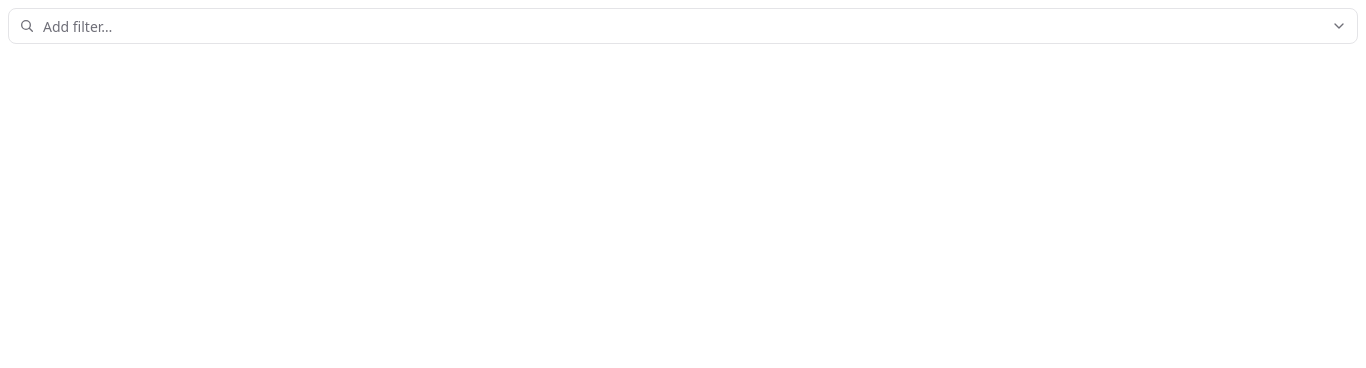
Scenario: adding a filter › offers every built-in field and leaves custom types without an editor out
Click the dropdown labelled "Add filter…" at [683, 26], box [41, 13, 1325, 39]
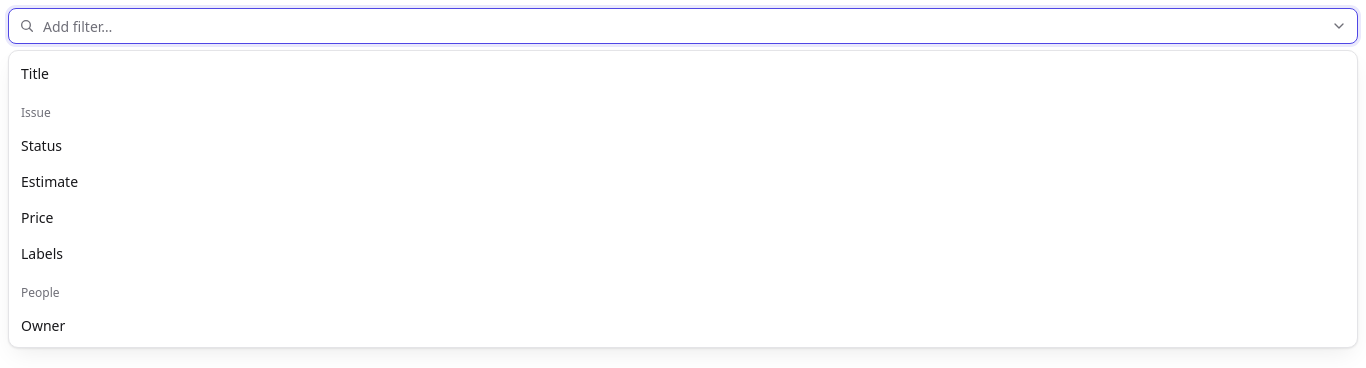
Now the option "Title" is shown, box [21, 64, 49, 82]
Now the option "Status" is shown, box [21, 136, 62, 154]
Now the option "Owner" is shown, box [21, 316, 65, 334]
